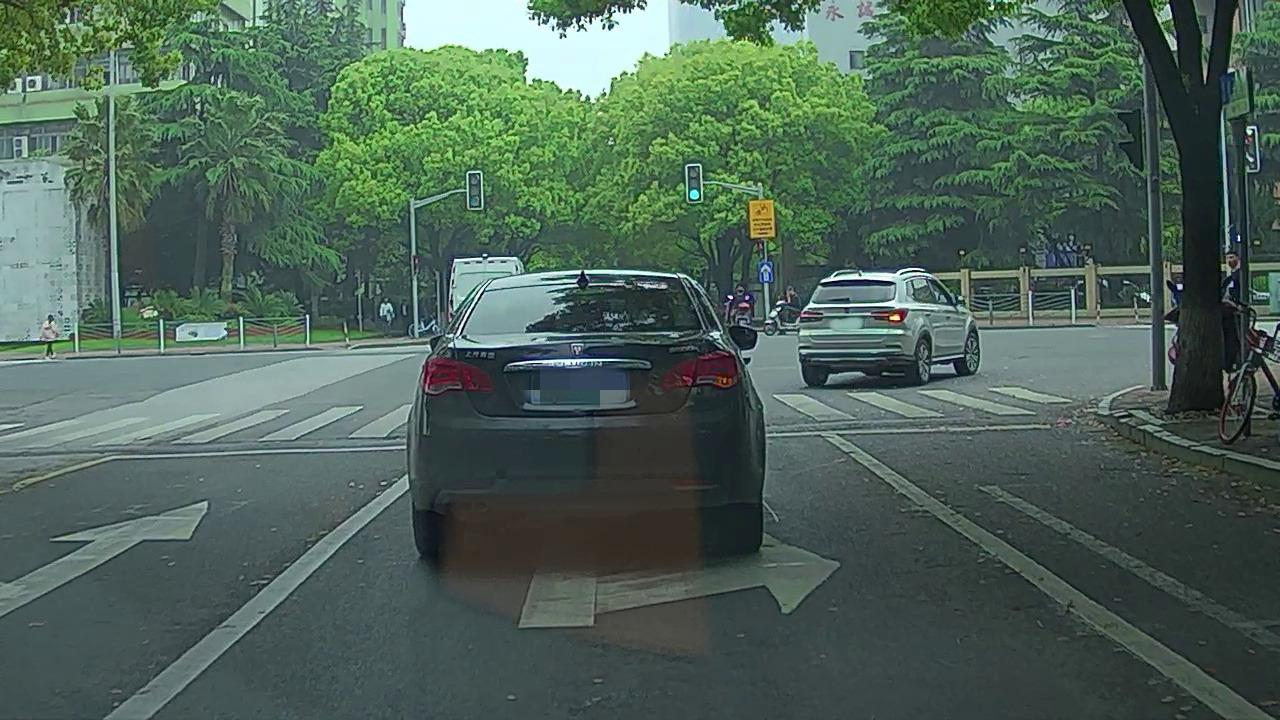traffic_light: (466, 173, 484, 208), (688, 165, 701, 203)
